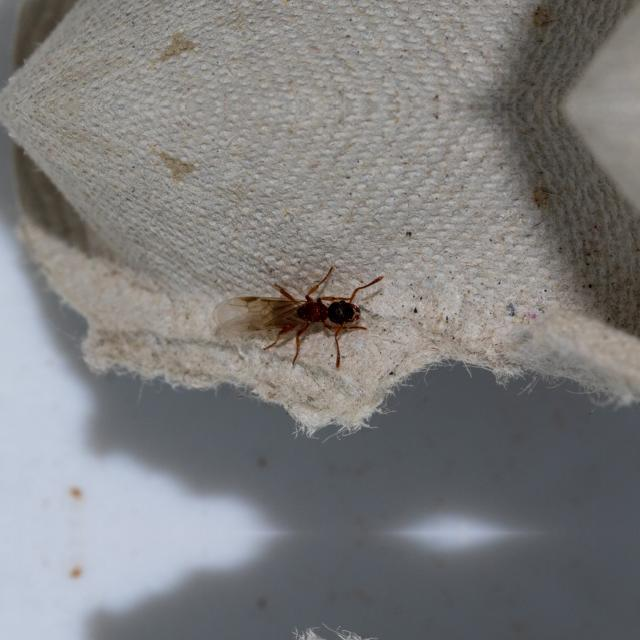Myrmica: (208, 264, 390, 352)
